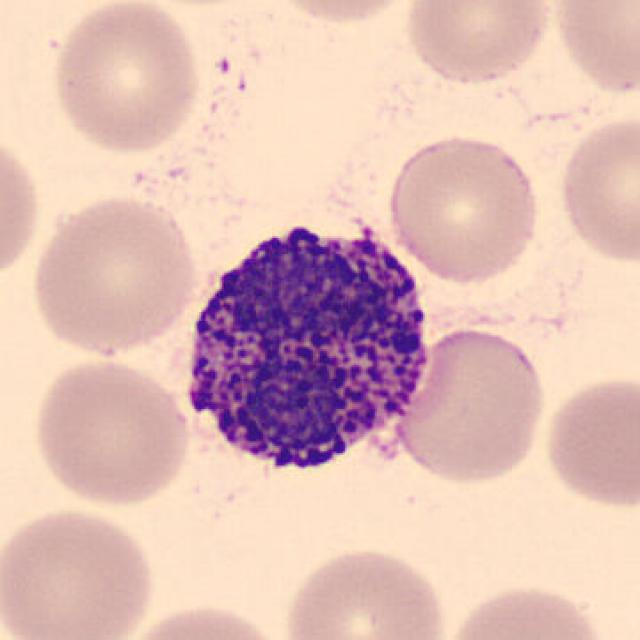Basophil: (167, 203, 446, 497)
RBC: (25, 190, 203, 360), (390, 324, 550, 488), (27, 354, 194, 510), (384, 130, 544, 286), (48, 0, 204, 157), (0, 502, 160, 640), (278, 541, 452, 640), (538, 370, 640, 513), (400, 0, 554, 86), (555, 111, 638, 266), (439, 578, 613, 640), (547, 0, 640, 98), (0, 123, 44, 289), (112, 599, 290, 640), (264, 0, 421, 26)
